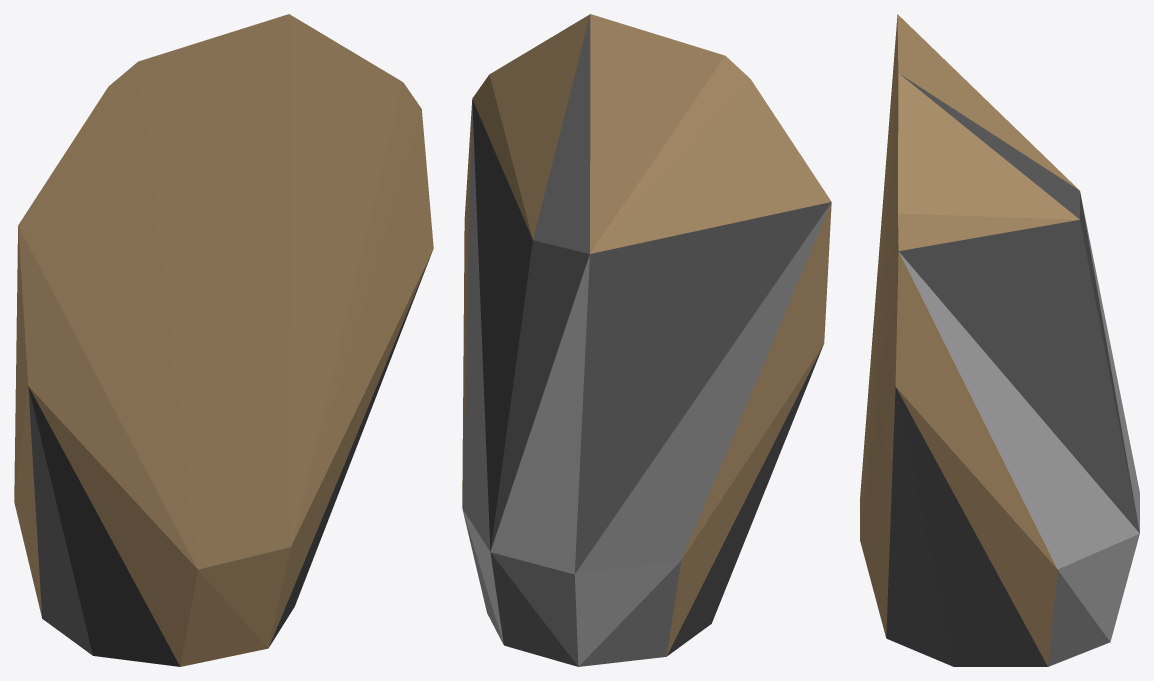
File: TowerWindmill.lod4.glb
3 renders of one model, left to right at view 1: azimuth 30°, elevation 25°; view 2: azimuth 150°, elevation 25°; view 3: azimuth 270°, elevation 25°, orthographic. The views are drawn at different scales.
Visible parts, largest first — view 1: TowerWindmill; view 2: TowerWindmill; view 3: TowerWindmill.
Part boxes in pixels (x1,y1,x2,y2): TowerWindmill: [14, 14, 433, 666]; TowerWindmill: [462, 14, 831, 666]; TowerWindmill: [860, 14, 1139, 666].
Bounding box in the file's own units: 7.93 × 11.4 × 5.
